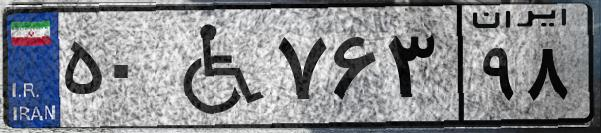0: (110, 28, 158, 98)
3: (385, 28, 445, 110)
5: (57, 26, 110, 100)
6: (330, 28, 385, 110)
7: (270, 28, 330, 110)
8: (525, 38, 570, 115)
9: (475, 38, 525, 113)
ژ (معلولین و جانبازان): (158, 12, 270, 120)
